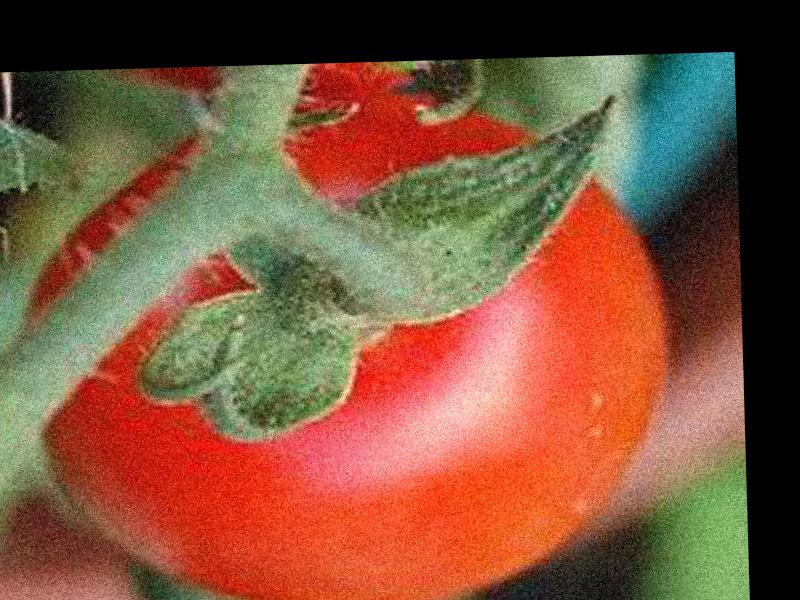Tomato: (14, 68, 675, 600)
